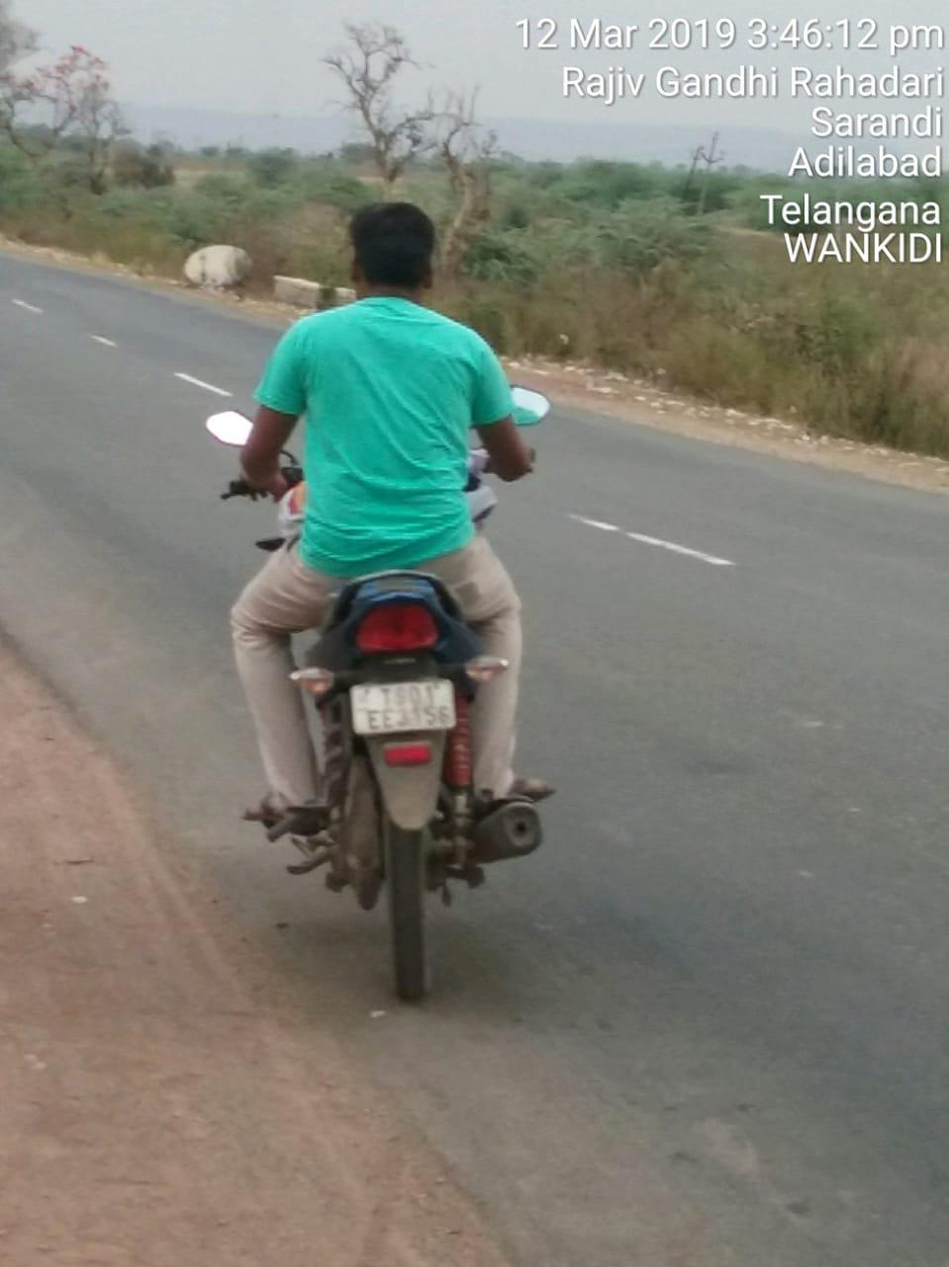plate: (339, 677, 471, 741)
